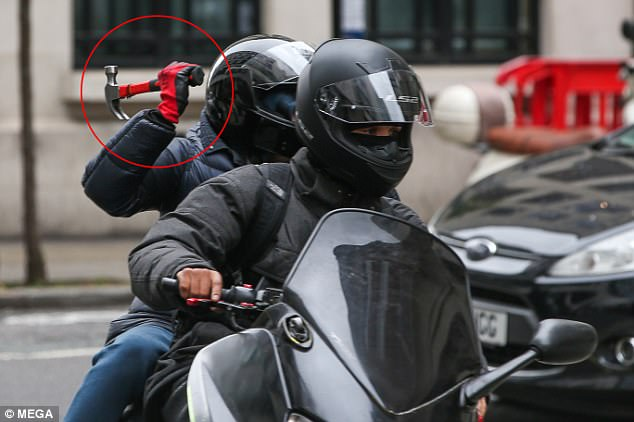with_helmet: (300, 36, 430, 196), (207, 32, 314, 152)
